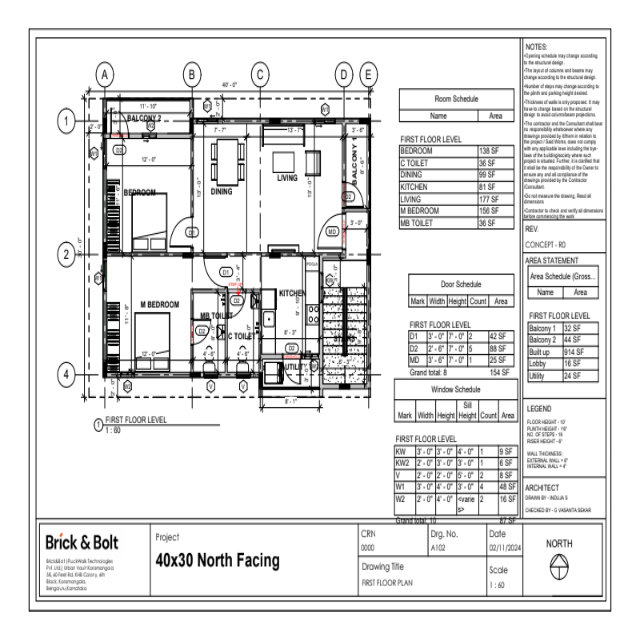door: (317, 211, 345, 251), (204, 254, 228, 289), (169, 214, 193, 248), (109, 106, 130, 137), (281, 355, 302, 386), (344, 179, 365, 209), (192, 317, 212, 346), (227, 291, 247, 320)
